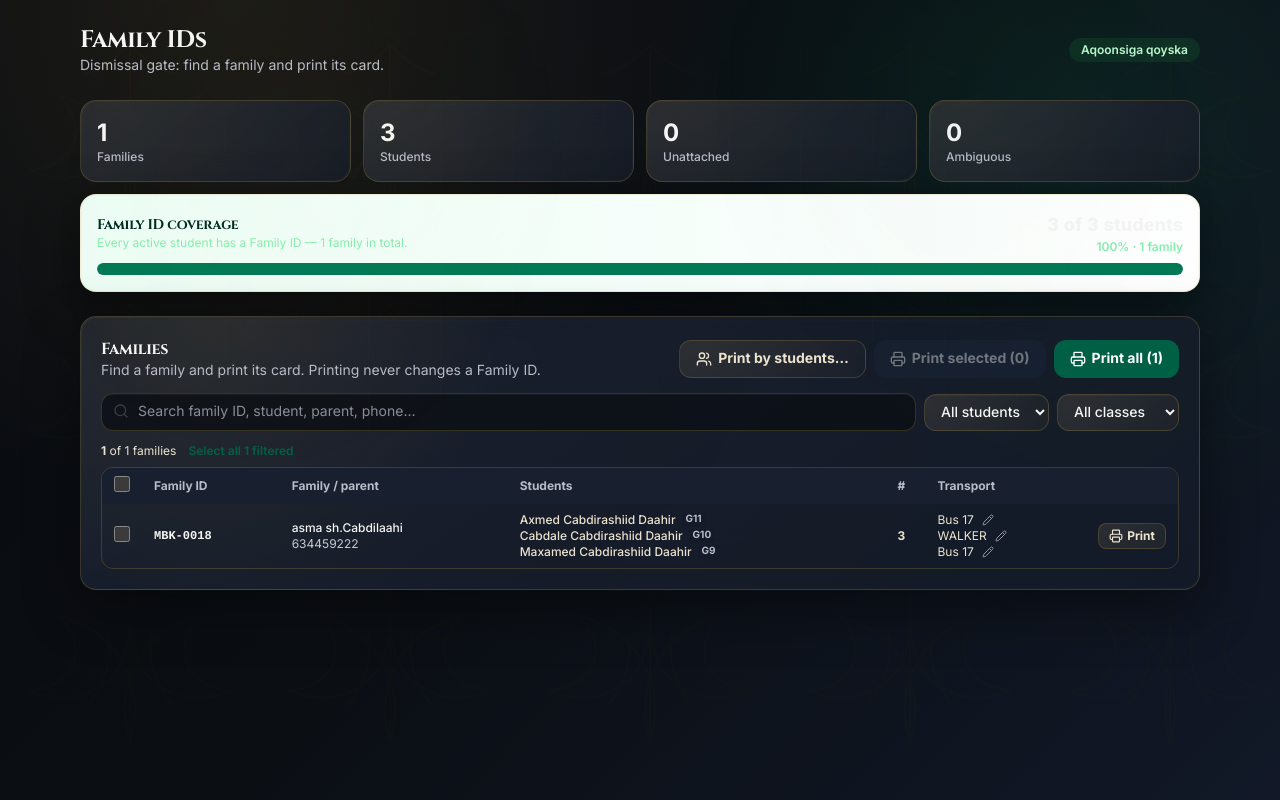
Test: the real /admin/family-ids page › keeps family identity and reports hidden siblings
The width and height of the screenshot is (1280, 800).
Select "Walkers" in the 1st dropdown at (986, 412), box [924,394,1049,430]
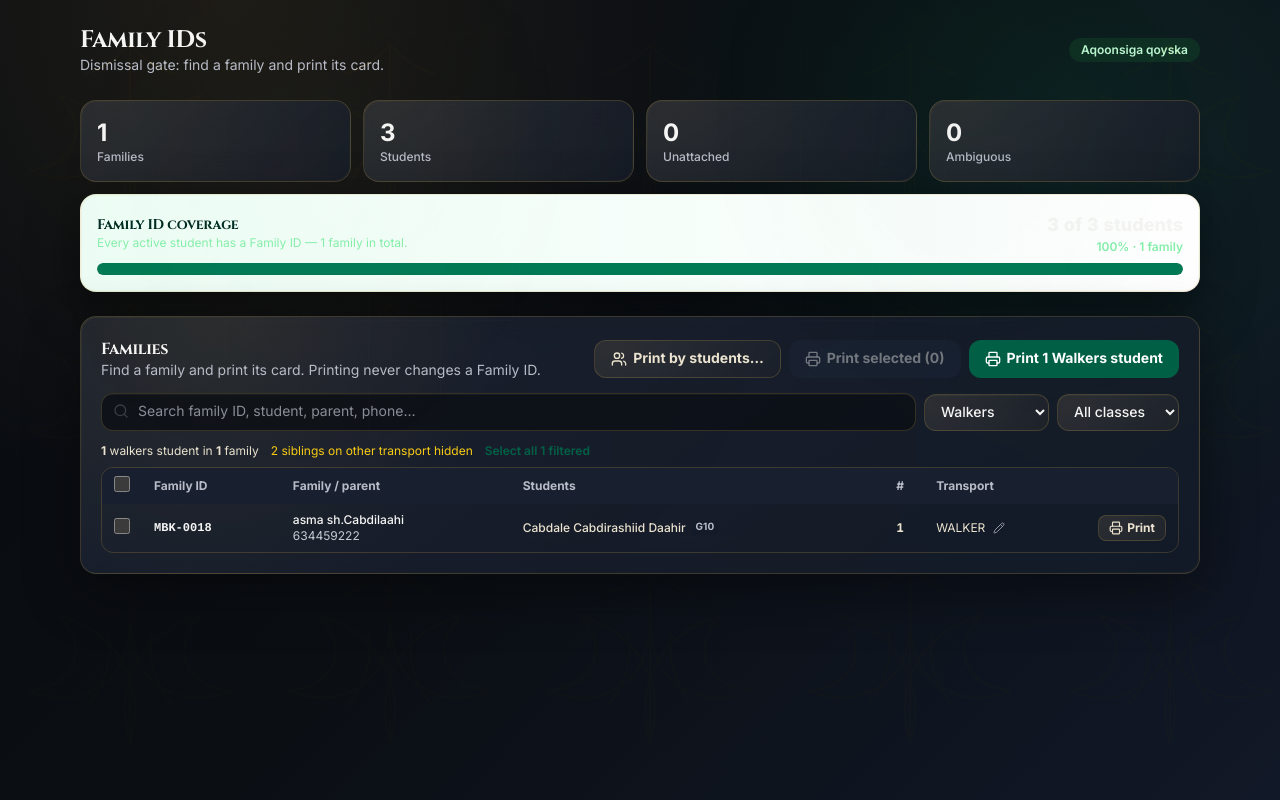
Check: the text "MBK-0018" is shown, box [142,504,281,552]
Check: the text "2 siblings on other transport hidden" is shown, box [271,443,473,459]
